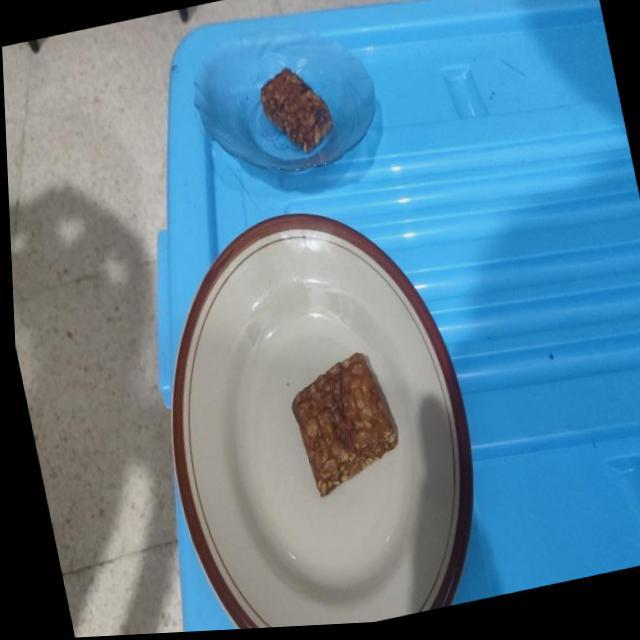tempe_goreng: (292, 353, 398, 496), (261, 68, 332, 152)
